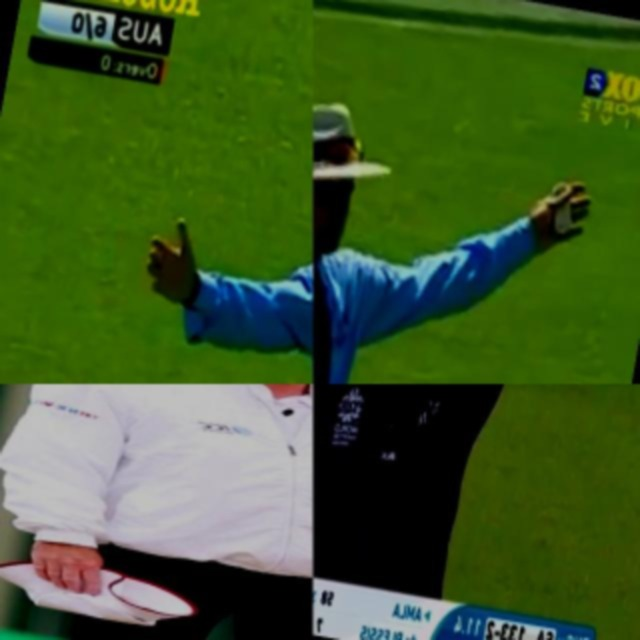No_Action: (0, 384, 313, 640)
No_Ball: (89, 59, 313, 384)
Out: (313, 384, 557, 640)
Wide: (313, 58, 605, 384)
